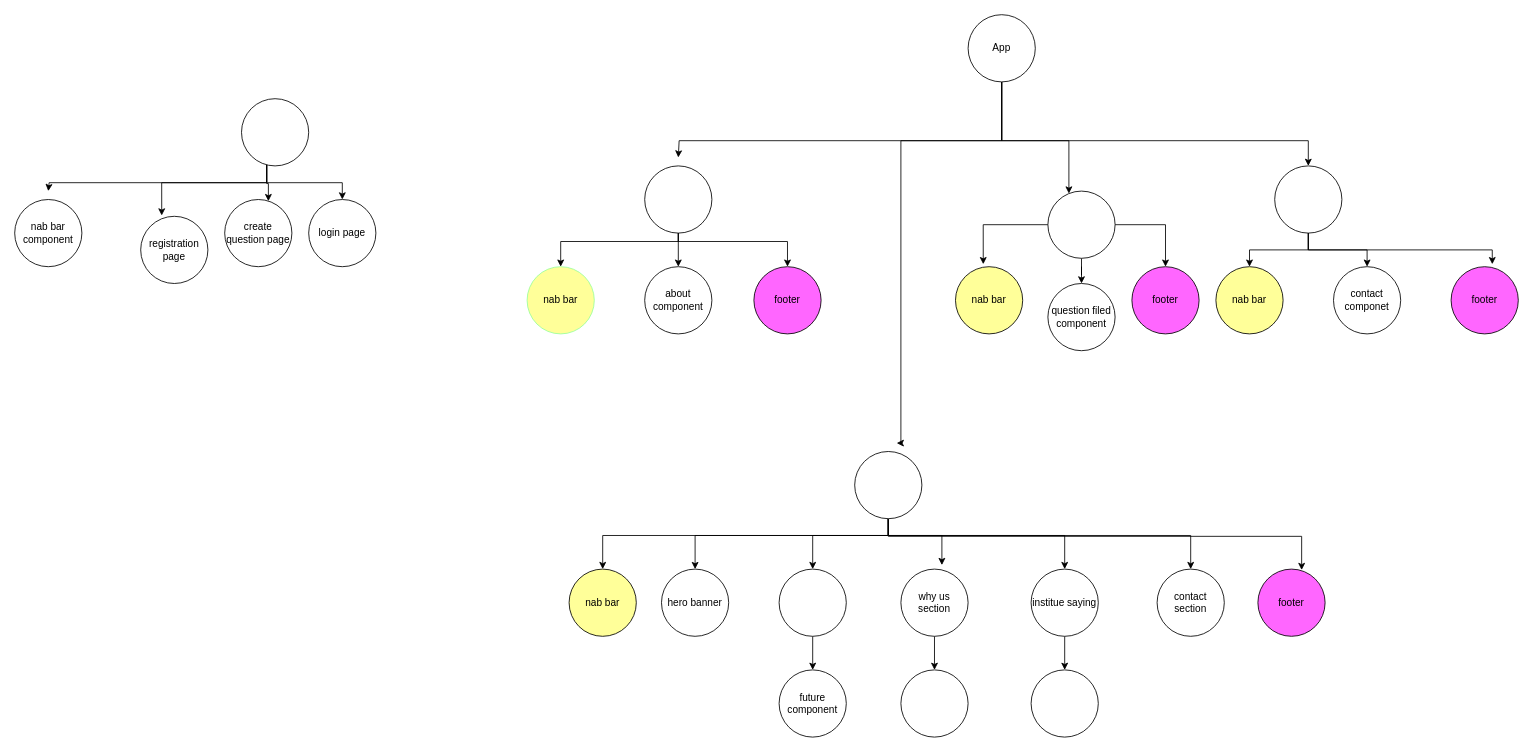
This 1533x752 diagram has some shape labels left out. Here are the shapes that lost their labels. From the top down, the centre of each, then its label:
At pixel 275 132: "admin".
At pixel 678 199: "about page".
At pixel 1308 199: "contact page".
At pixel 1081 224: "question page".
At pixel 888 485: "home page".
At pixel 812 602: "feature section".
At pixel 934 703: "why us component".
At pixel 1064 703: "institute component".
